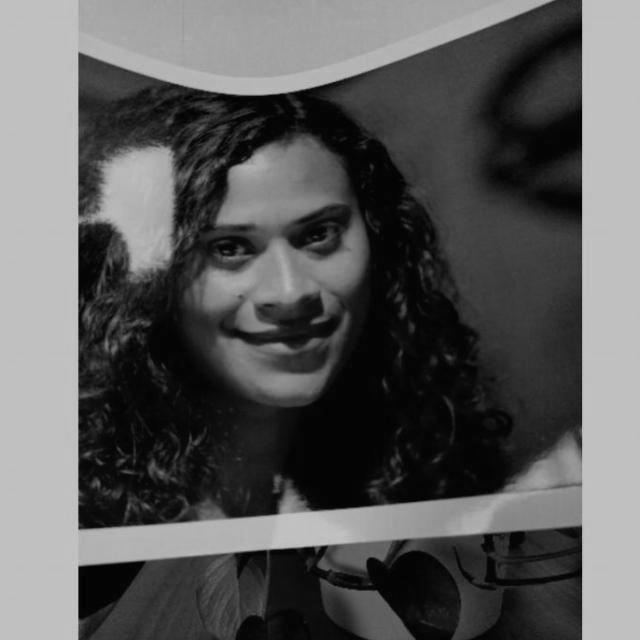fake: (79, 0, 582, 583)
